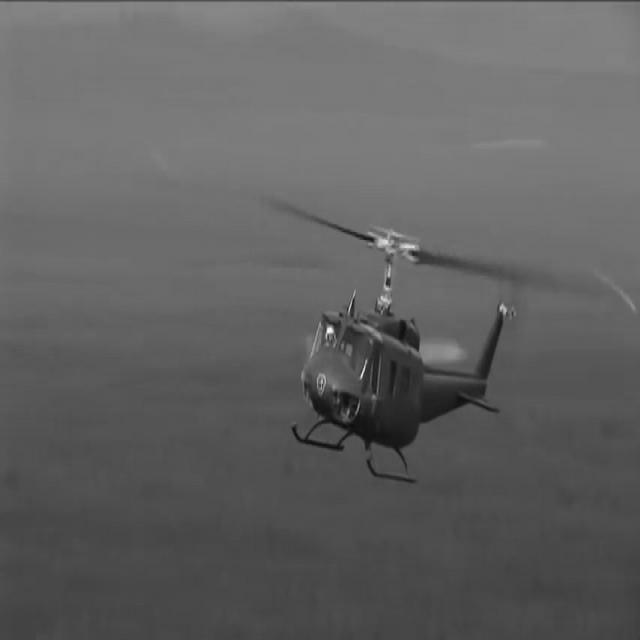helikopter: (274, 240, 536, 493)
